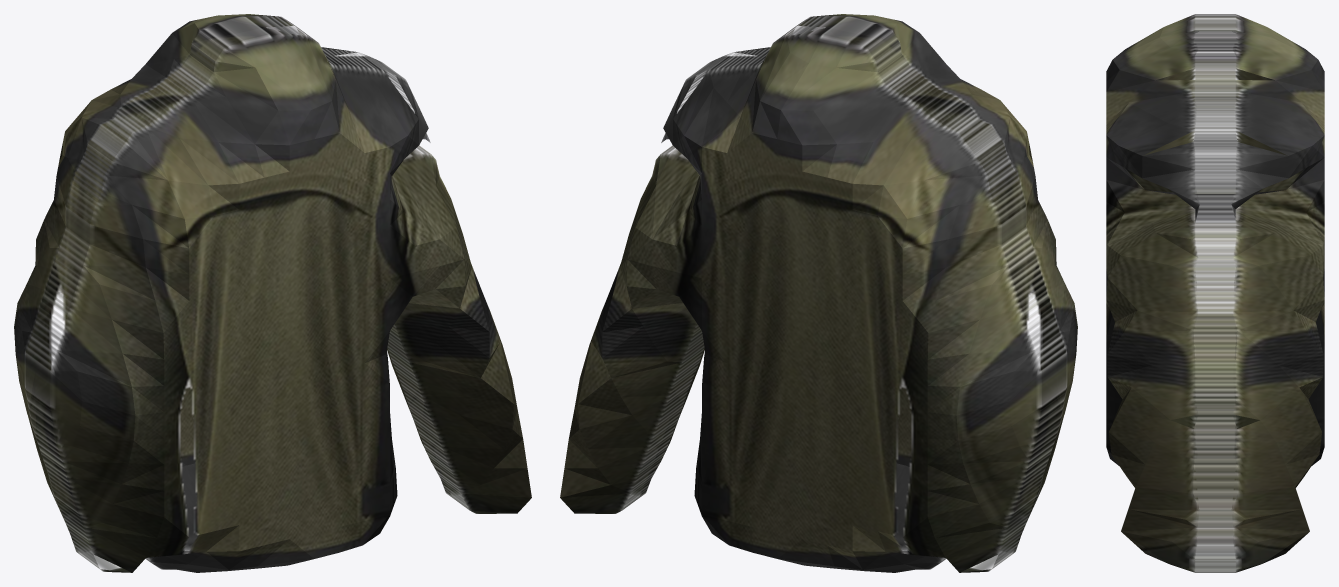
File: scorpion-nomad-textile-jacket-009.glb
3 views of the same model, side by side, from view 1: azimuth 30°, elevation 25°; view 2: azimuth 150°, elevation 25°; view 3: azimuth 270°, elevation 25° (orthographic). The views are drawn at different scales.
Visible parts, largest first — view 1: world; view 2: world; view 3: world.
Boxes of the visible parts, <box> form: world: <box>14,14,531,572</box>; world: <box>560,14,1077,572</box>; world: <box>1106,14,1324,572</box>.
Bounding box in the file's own units: 0.934 × 1 × 0.44.
1 material, 1 textured.
